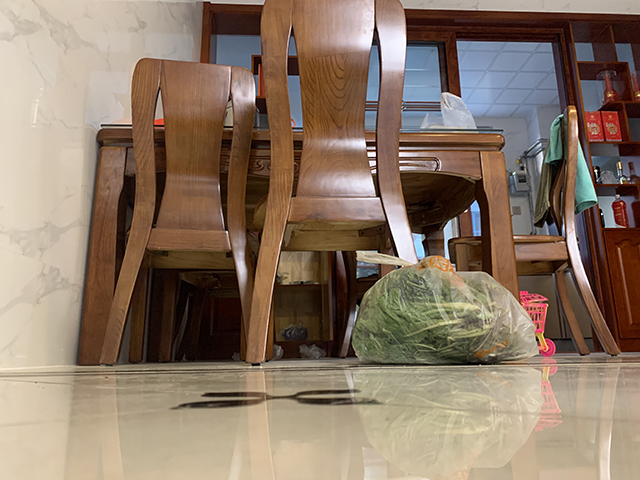stool: (244, 1, 416, 367), (98, 57, 258, 366), (446, 104, 622, 357)
table: (76, 121, 521, 367)
